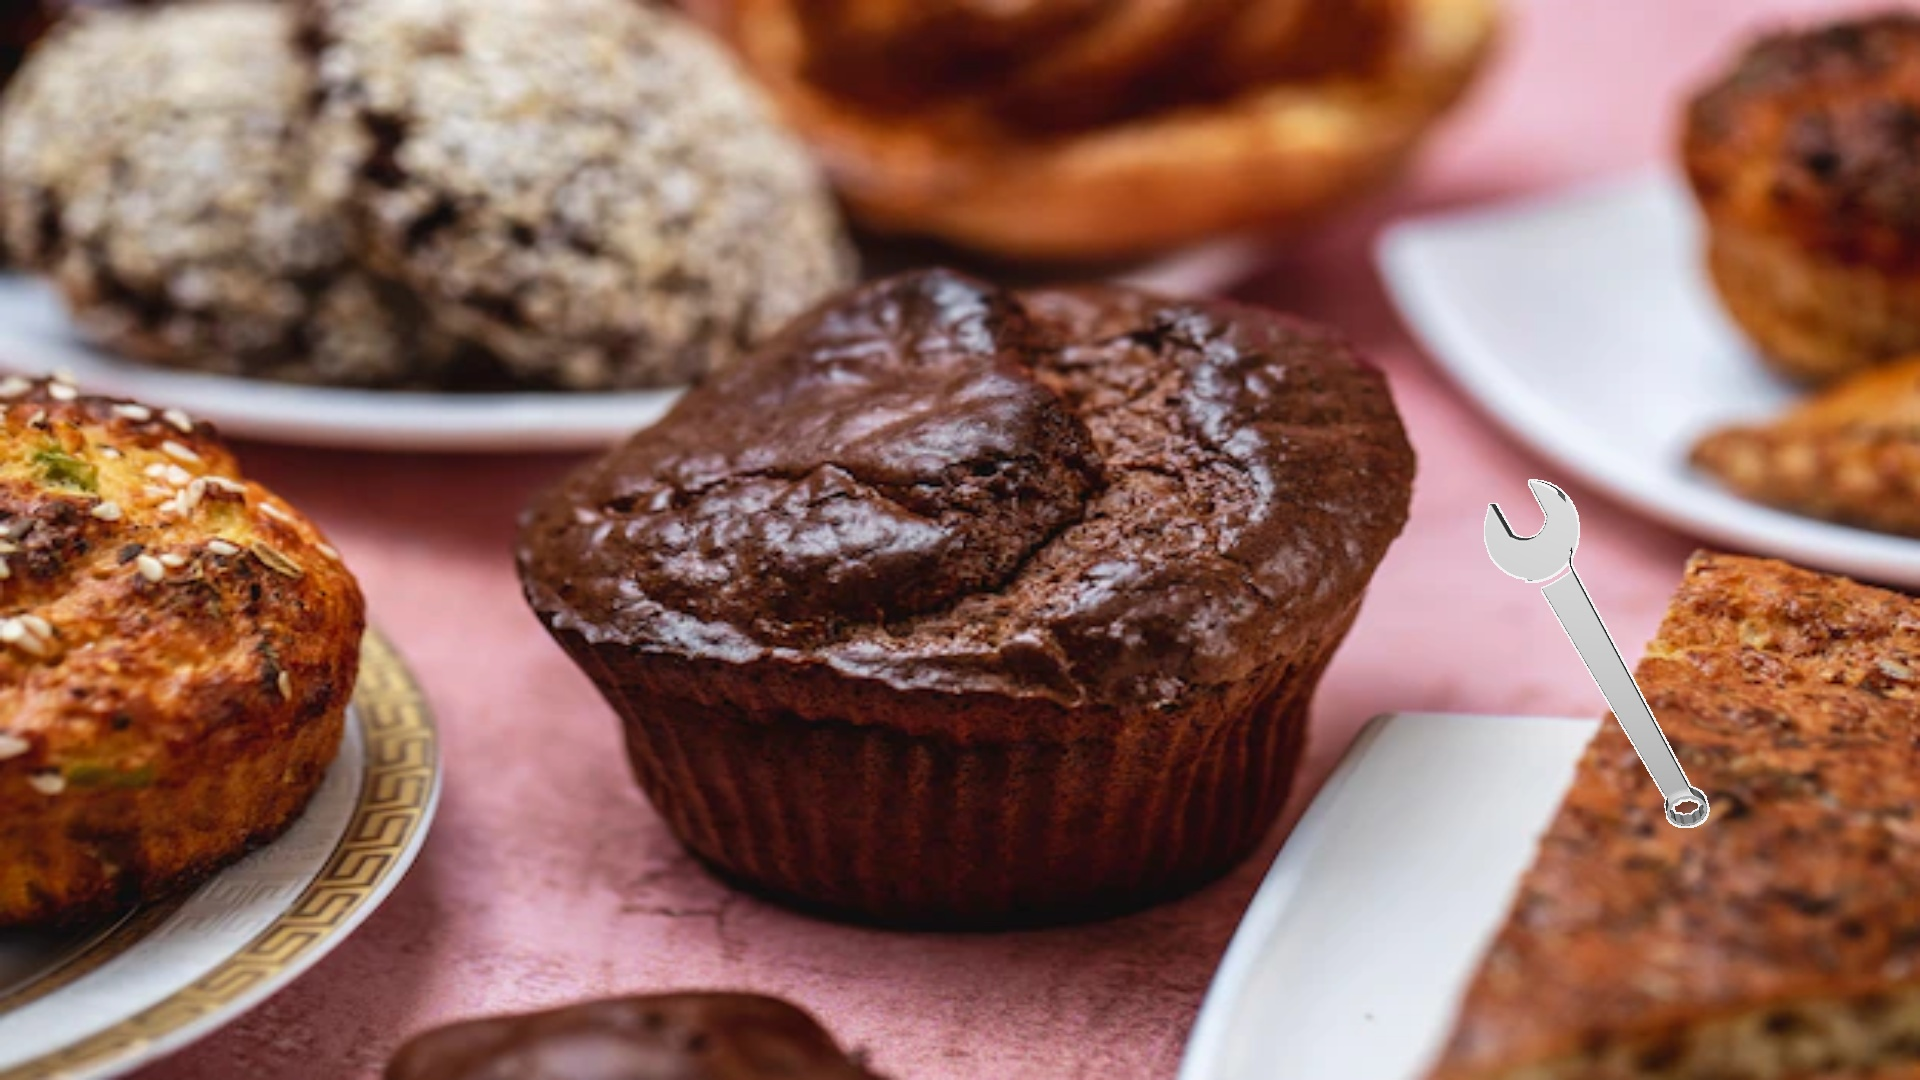Mixed Key: (1484, 479, 1709, 827), (913, 828, 1108, 931)
